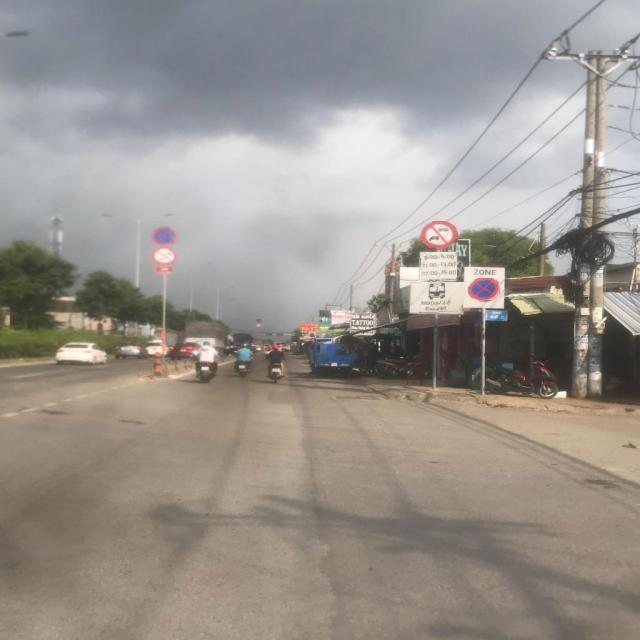cam_dung_xe_va_do_xe: (468, 278, 500, 302), (153, 226, 177, 246), (309, 333, 315, 338), (256, 319, 262, 323)
cam_o_to_tai_va_xe_khach: (420, 221, 458, 250)
cam_xe_2_banh_va_xe_3_banh_co_dong_co: (152, 246, 177, 265), (256, 324, 262, 328)
khac: (410, 282, 464, 314), (419, 252, 457, 282)
